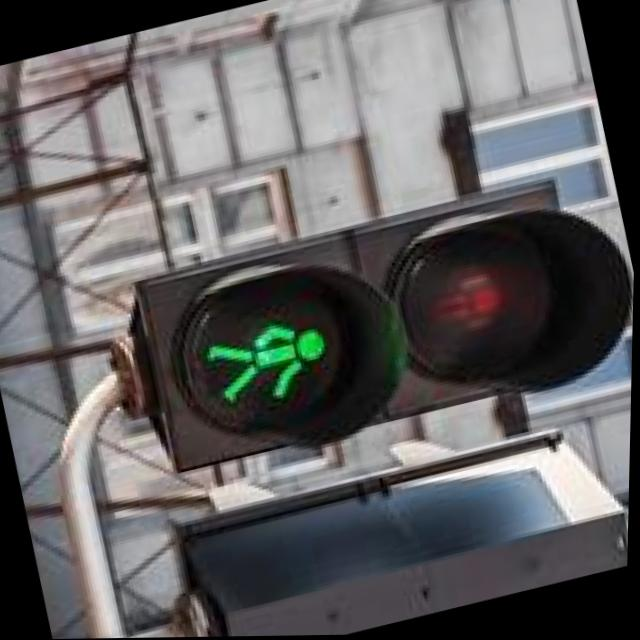green_light: (99, 151, 417, 506)
